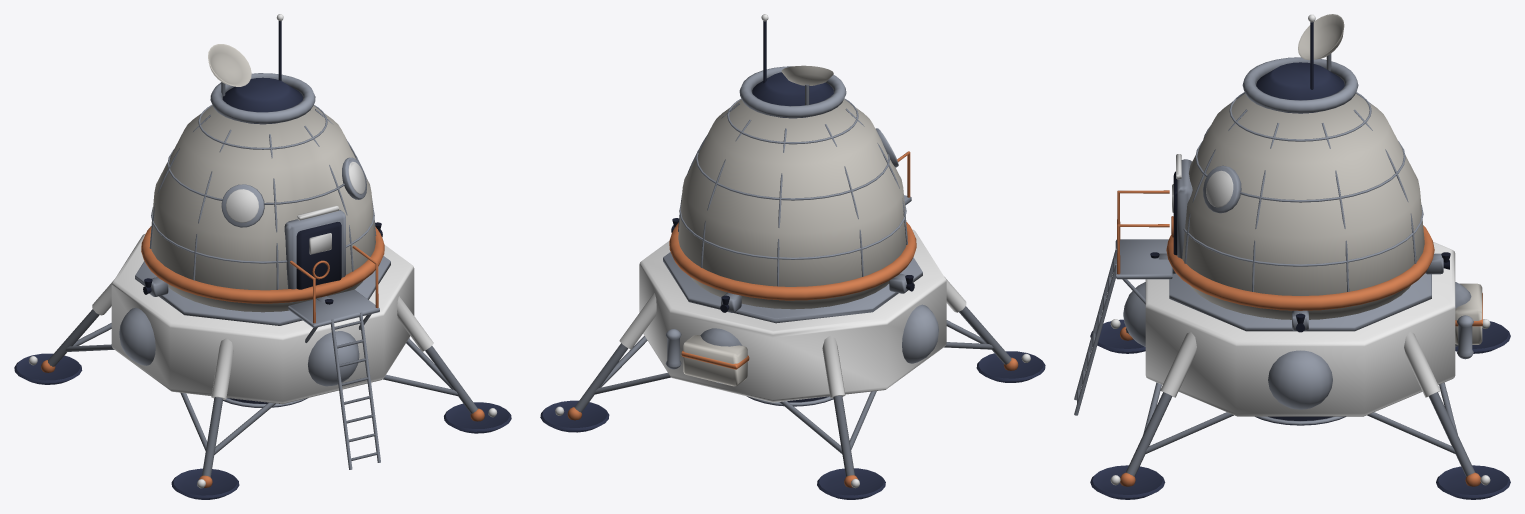
Rendered from lander.glb.
The picture shows the model from 3 angles, left to right: view 1: azimuth 30°, elevation 25°; view 2: azimuth 150°, elevation 25°; view 3: azimuth 270°, elevation 25°; orthographic projection. The views are drawn at different scales.
Parts seen in each view (by area): view 1: lander; view 2: lander; view 3: lander.
Part boxes in pixels (left/top/right/bottom): lander: left=14, top=14, right=511, bottom=499; lander: left=540, top=14, right=1045, bottom=499; lander: left=1074, top=14, right=1510, bottom=499.
Size of the model in its own units: 7.4 by 8 by 7.68.
